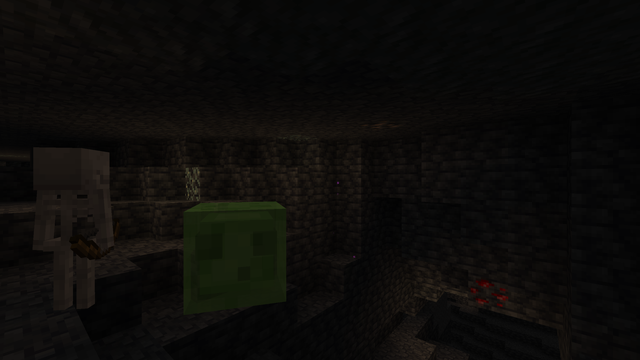slimes: (175, 198, 299, 321)
squelettes: (38, 146, 109, 325)
